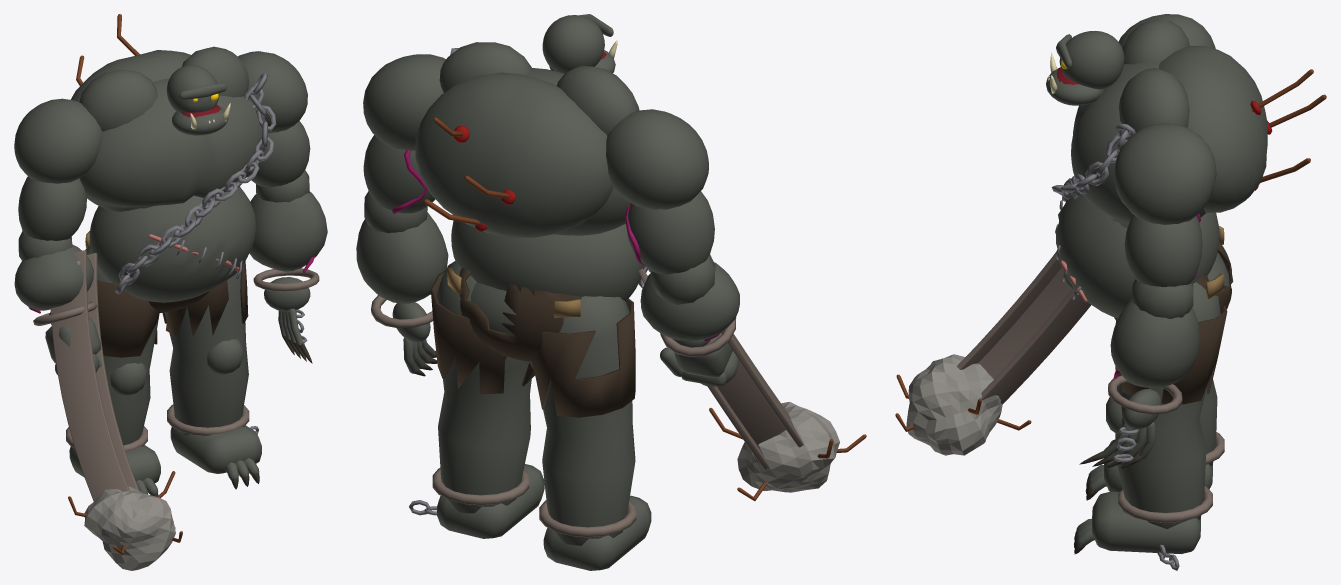
File: zombi_gigante_hd.fbx
3 views of the same model, side by side, from view 1: azimuth 30°, elevation 25°; view 2: azimuth 150°, elevation 25°; view 3: azimuth 270°, elevation 25° (orthographic). The views are drawn at different scales.
Visible parts, largest first — view 1: Torso, RightArm, Weapon, LeftLeg, LeftArm, RightLeg, Head; view 2: Torso, RightLeg, RightArm, LeftLeg, LeftArm, Weapon, Head; view 3: Torso, LeftArm, LeftLeg, Weapon, Head, RightLeg, RightArm.
Part boxes in pixels (<box>): Torso: <box>70,14,276,312</box>; RightArm: <box>14,98,102,374</box>; Weapon: <box>50,250,182,570</box>; LeftLeg: <box>162,261,261,489</box>; LeftArm: <box>238,51,327,363</box>; RightLeg: <box>66,246,160,496</box>; Head: <box>166,65,230,135</box>; Torso: <box>415,42,651,361</box>; RightLeg: <box>529,296,651,570</box>; RightArm: <box>606,109,739,386</box>; LeftLeg: <box>409,261,544,538</box>; LeftArm: <box>356,54,448,376</box>; Weapon: <box>638,268,866,500</box>; Head: <box>542,14,617,73</box>; Torso: <box>1051,19,1326,319</box>; LeftArm: <box>1079,123,1216,469</box>; LeftLeg: <box>1074,281,1227,570</box>; Weapon: <box>895,252,1090,455</box>; Head: <box>1046,31,1124,105</box>; RightLeg: <box>1085,379,1224,500</box>; RightArm: <box>1063,14,1215,294</box>.
Bounding box in the file's own units: 803 × 994 × 795.
1 material, 1 textured.
